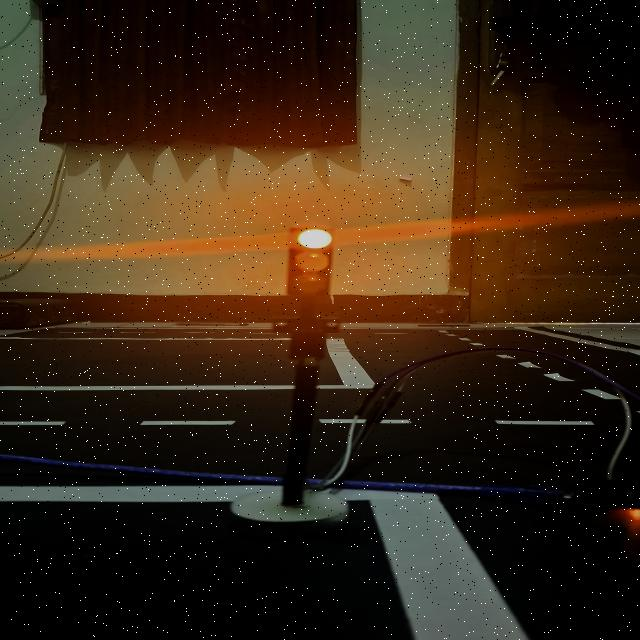Lampu Merah: (284, 226, 334, 301)
